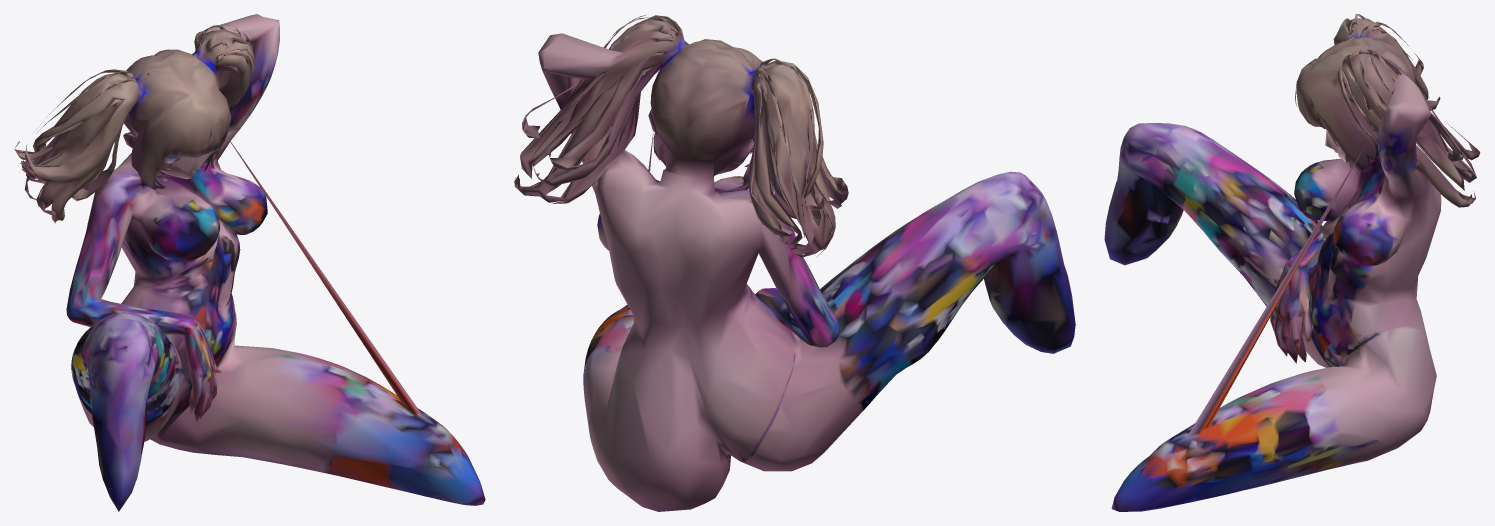
File: 01a1acea-a798-79ec-83cc-0ce3b29b92bf.glb
3 views of the same model, side by side, from view 1: azimuth 30°, elevation 25°; view 2: azimuth 150°, elevation 25°; view 3: azimuth 270°, elevation 25° (orthographic). The views are drawn at different scales.
Parts seen in each view (by area): view 1: node_0; view 2: node_0; view 3: node_0.
Boxes of the visible parts, x1,y1,x2,y2 form: node_0: (14,14,485,511); node_0: (514,15,1075,511); node_0: (1104,14,1480,511).
Bounding box in the file's own units: 0.7202 × 0.7513 × 0.6457.
